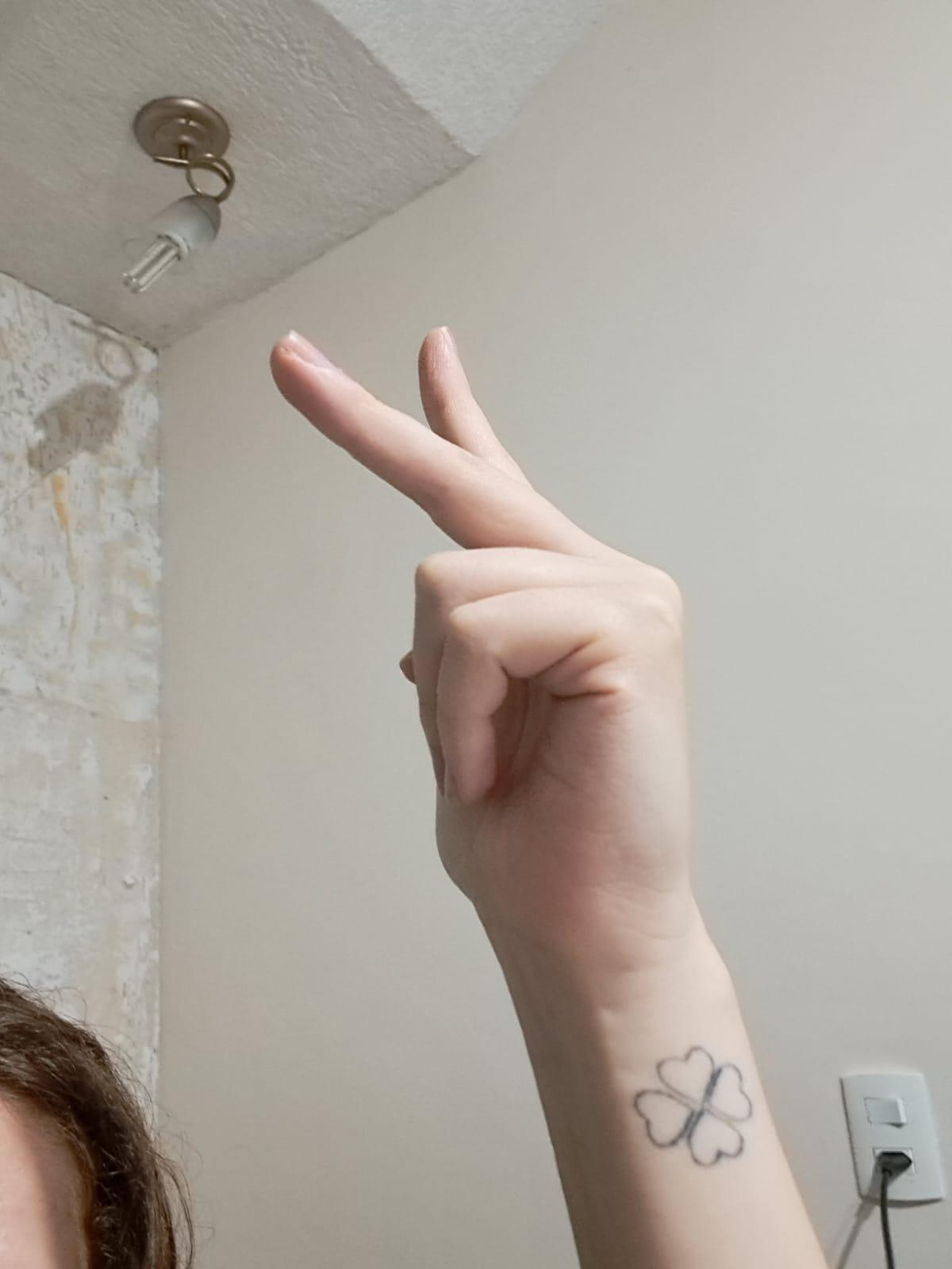K: (260, 293, 702, 900)
